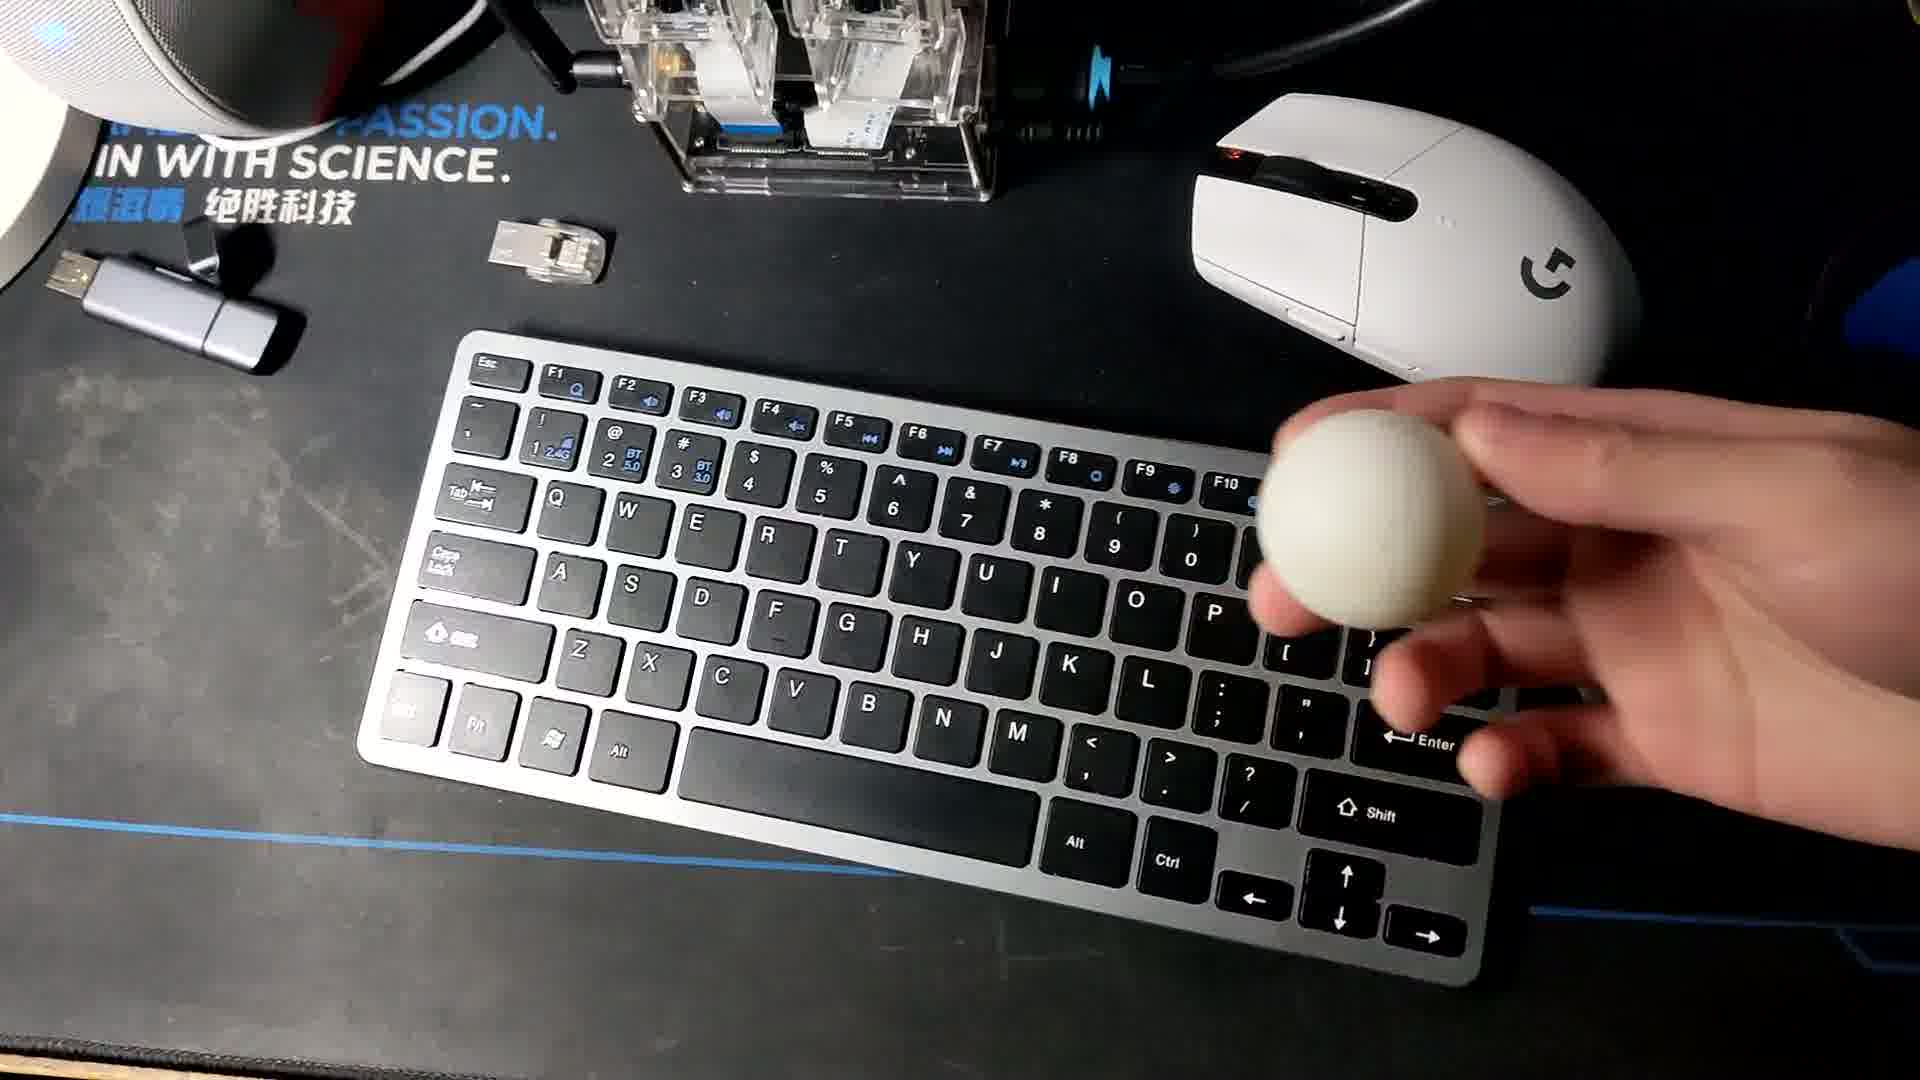Ball: (1253, 411, 1482, 636)
